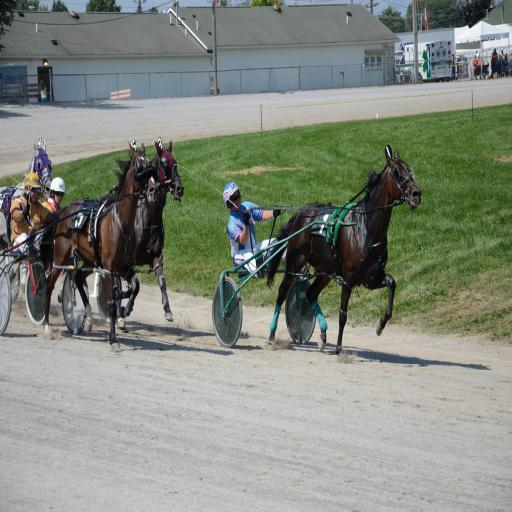horse: (266, 142, 423, 353), (37, 138, 157, 352), (73, 141, 184, 334)
